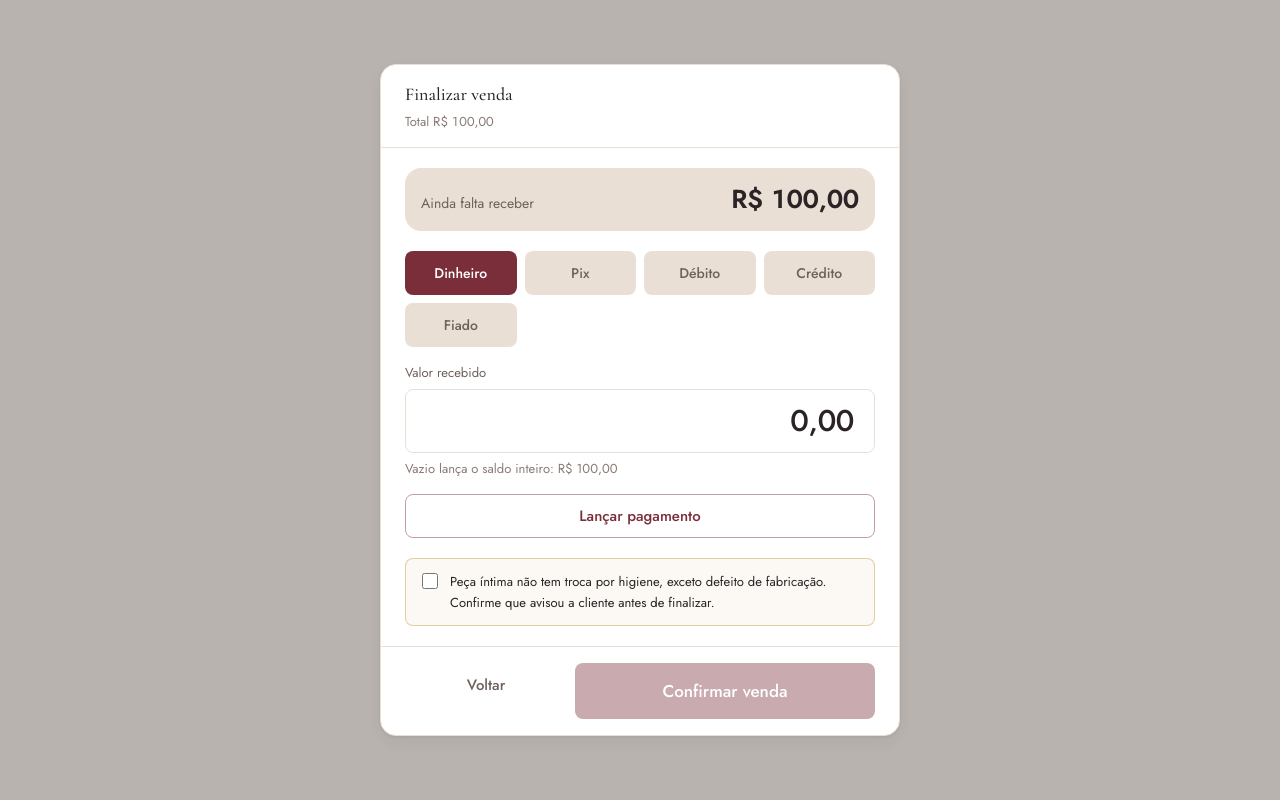
ModalFinalizacao › não deixa confirmar enquanto a conta não fecha
Expected: the button "Confirmar venda" is disabled, [575,663,875,719]
Click the button "Lançar pagamento" at (640, 516), box [405,494,875,538]
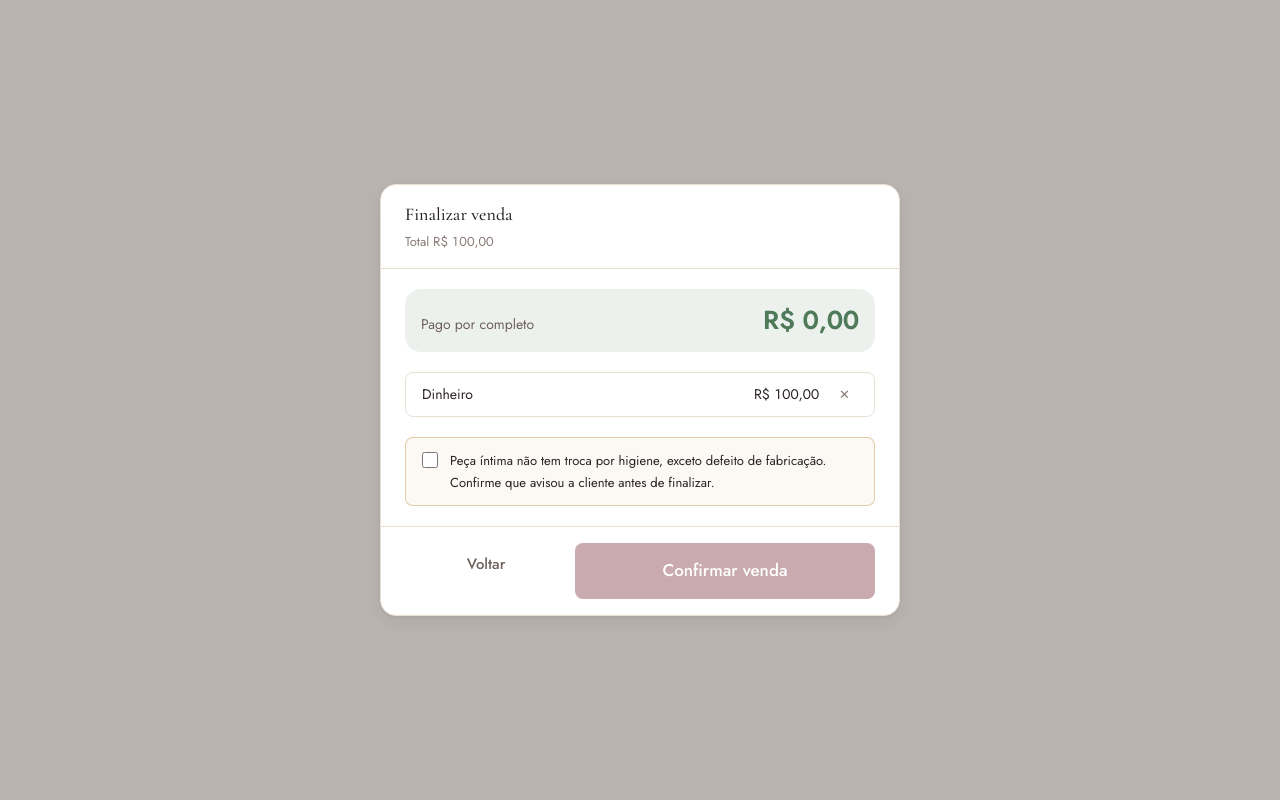
Expected: the text "Pago por completo" is shown, [421,314,534,335]
Click the checkbox at (430, 460), box [422,452,438,468]
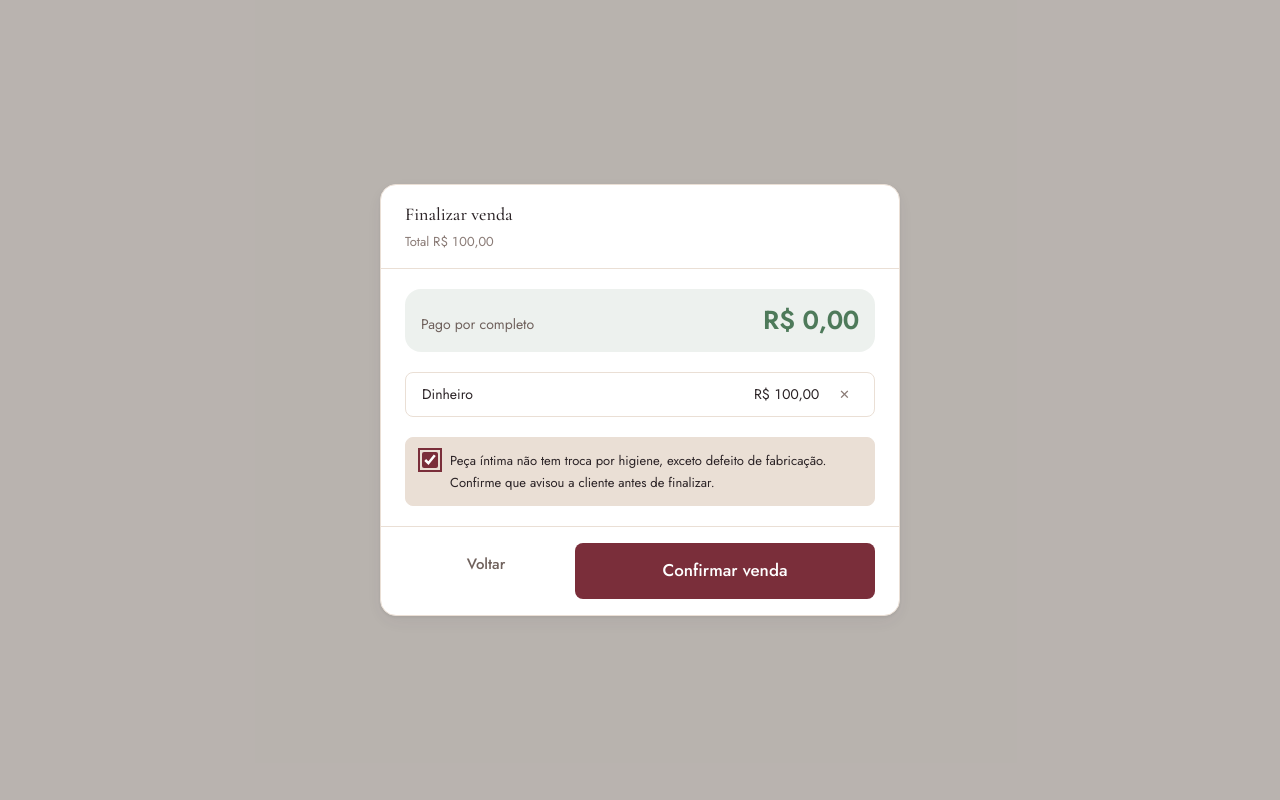
Expected: the button "Confirmar venda" is enabled, [575,543,875,599]
